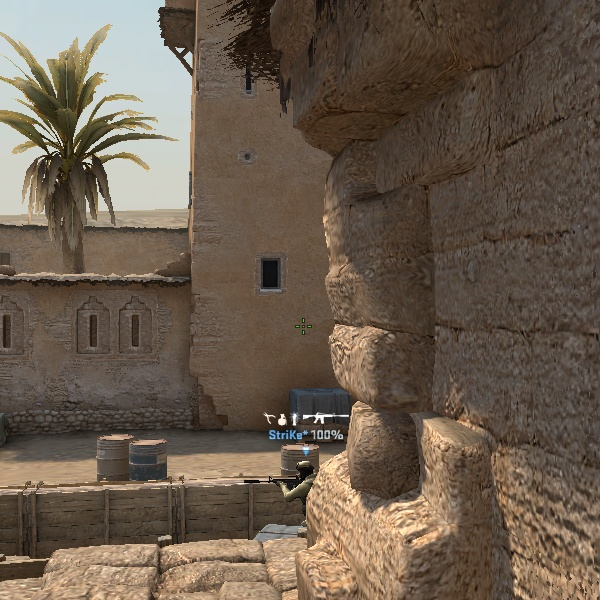ct_body: (272, 457, 317, 518)
ct_head: (294, 460, 315, 480)
